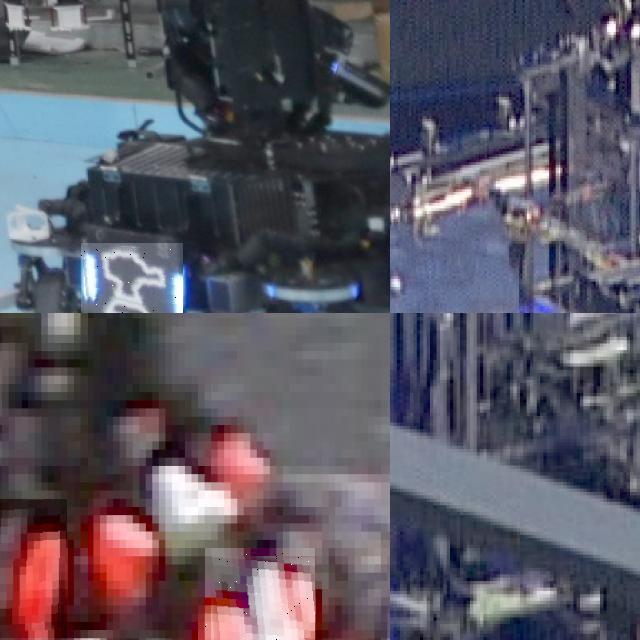Bs: (81, 243, 183, 313)
R4: (204, 548, 315, 640), (0, 498, 67, 638)
